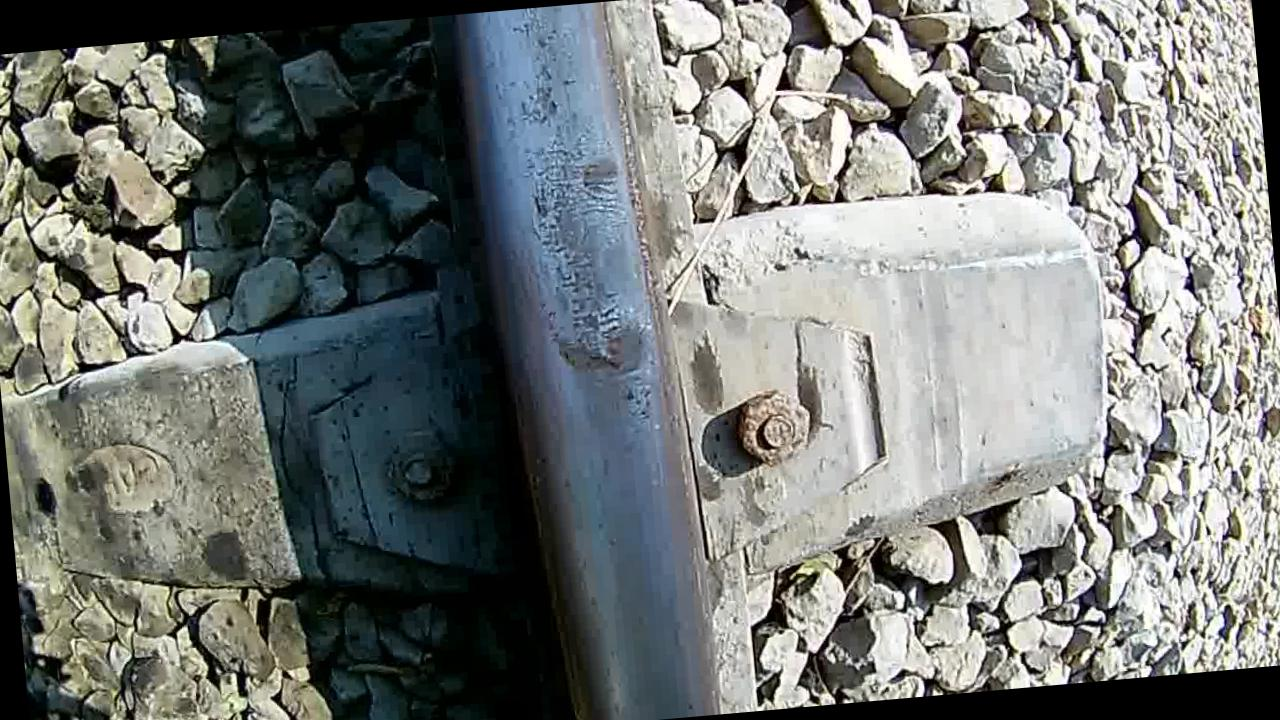crack: (453, 0, 721, 720)
